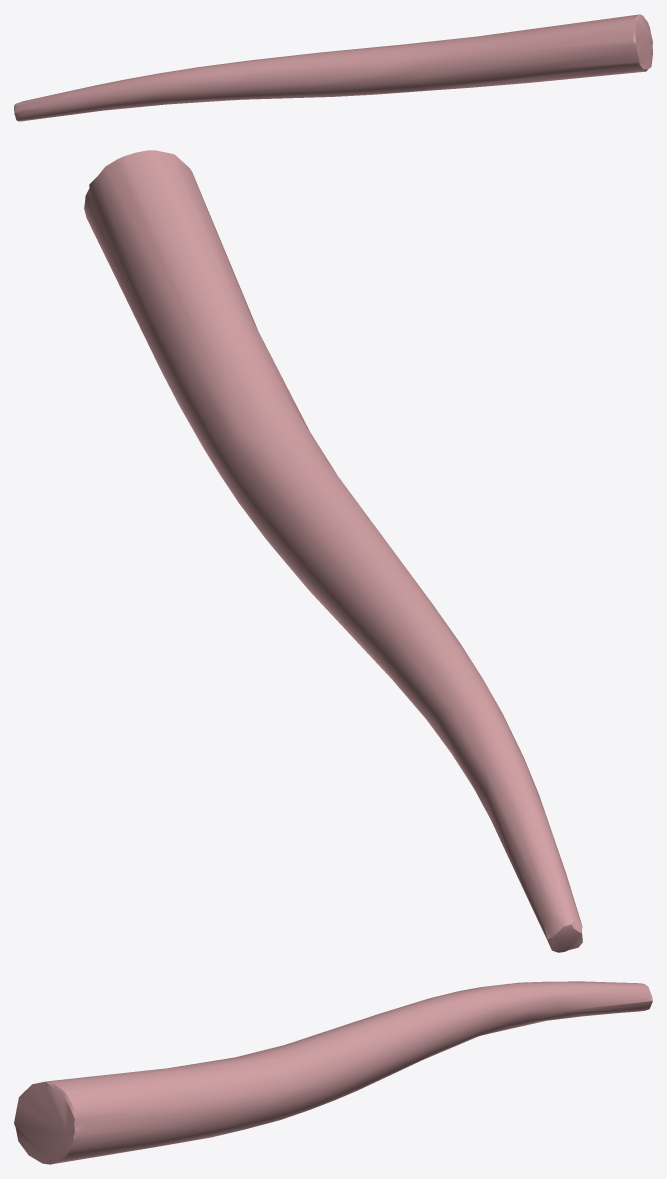
Rendered from fma68216_fj2459.glb.
The picture shows the model from 3 angles, top to bottom: view 1: azimuth 30°, elevation 25°; view 2: azimuth 150°, elevation 25°; view 3: azimuth 270°, elevation 25°; orthographic projection. The views are drawn at different scales.
Parts seen in each view (by area): view 1: FMA68216_FJ2459; view 2: FMA68216_FJ2459; view 3: FMA68216_FJ2459.
Boxes of the visible parts, x1=… form: FMA68216_FJ2459: x1=14, y1=14, x2=652, y2=121; FMA68216_FJ2459: x1=84, y1=150, x2=582, y2=952; FMA68216_FJ2459: x1=14, y1=981, x2=652, y2=1164.
Size of the model in its own units: 0.0665 by 0.0216 by 0.0573.
